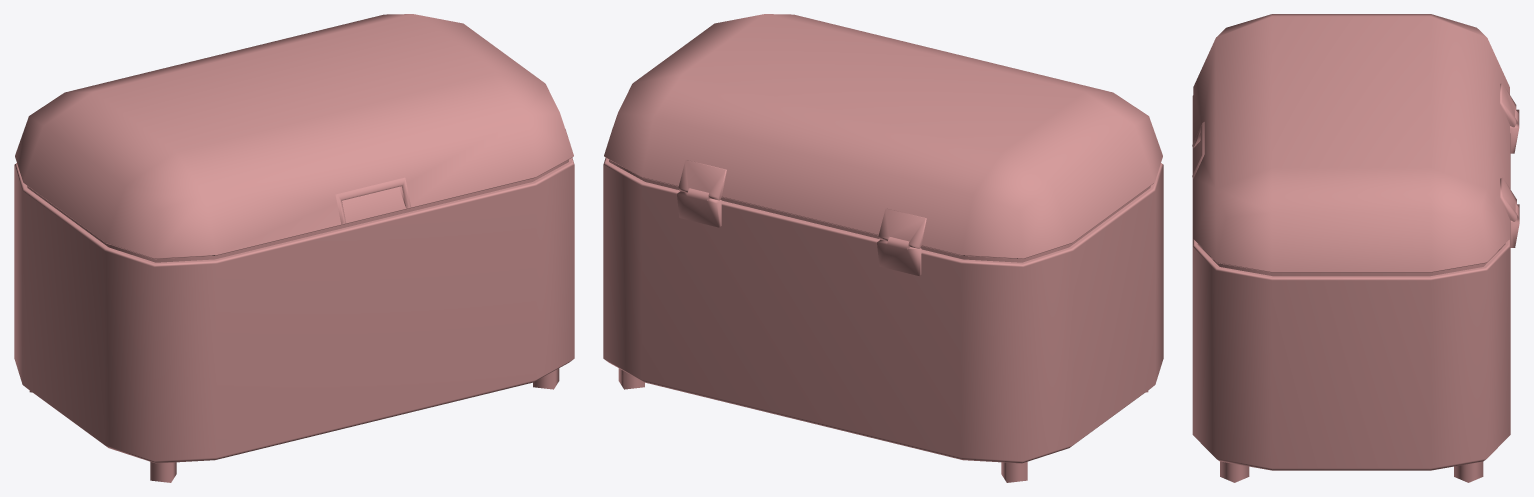
Rendered from Feezer01.fbx.
The picture shows the model from 3 angles, left to right: view 1: azimuth 30°, elevation 25°; view 2: azimuth 150°, elevation 25°; view 3: azimuth 270°, elevation 25°; orthographic projection. The views are drawn at different scales.
Visible parts, largest first — view 1: Freezer01_Body; view 2: Freezer01_Body; view 3: Freezer01_Body.
Part boxes in pixels (x1=…): Freezer01_Body: x1=14, y1=14, x2=574, y2=482; Freezer01_Body: x1=603, y1=14, x2=1163, y2=482; Freezer01_Body: x1=1192, y1=14, x2=1519, y2=482.
Bounding box in the file's own units: 152 × 95.17 × 96.04.
